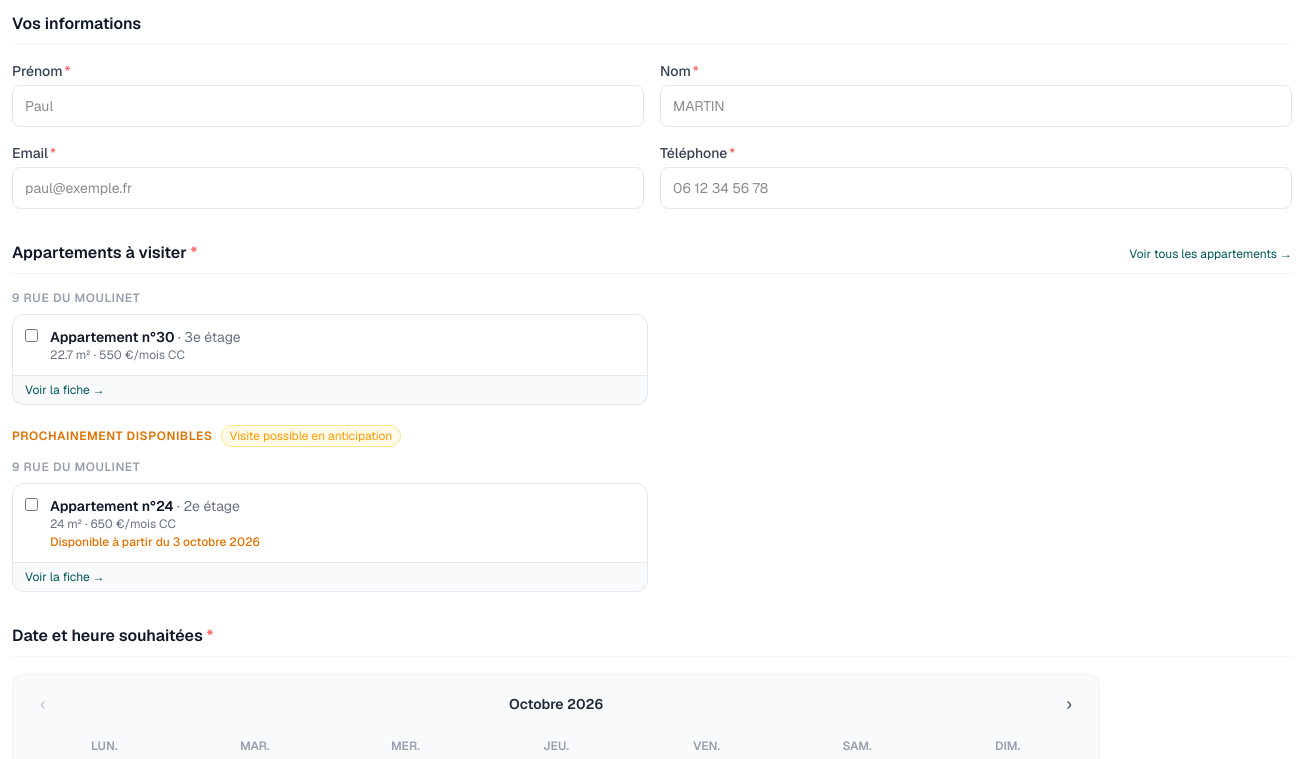
it: VisitorForm — validation email/téléphone › affiche une erreur pour un email invalide au blur
Type "pas-un-email" into the field with placeholder "paul@exemple.fr" at point(328, 188), box [12,167,644,209]
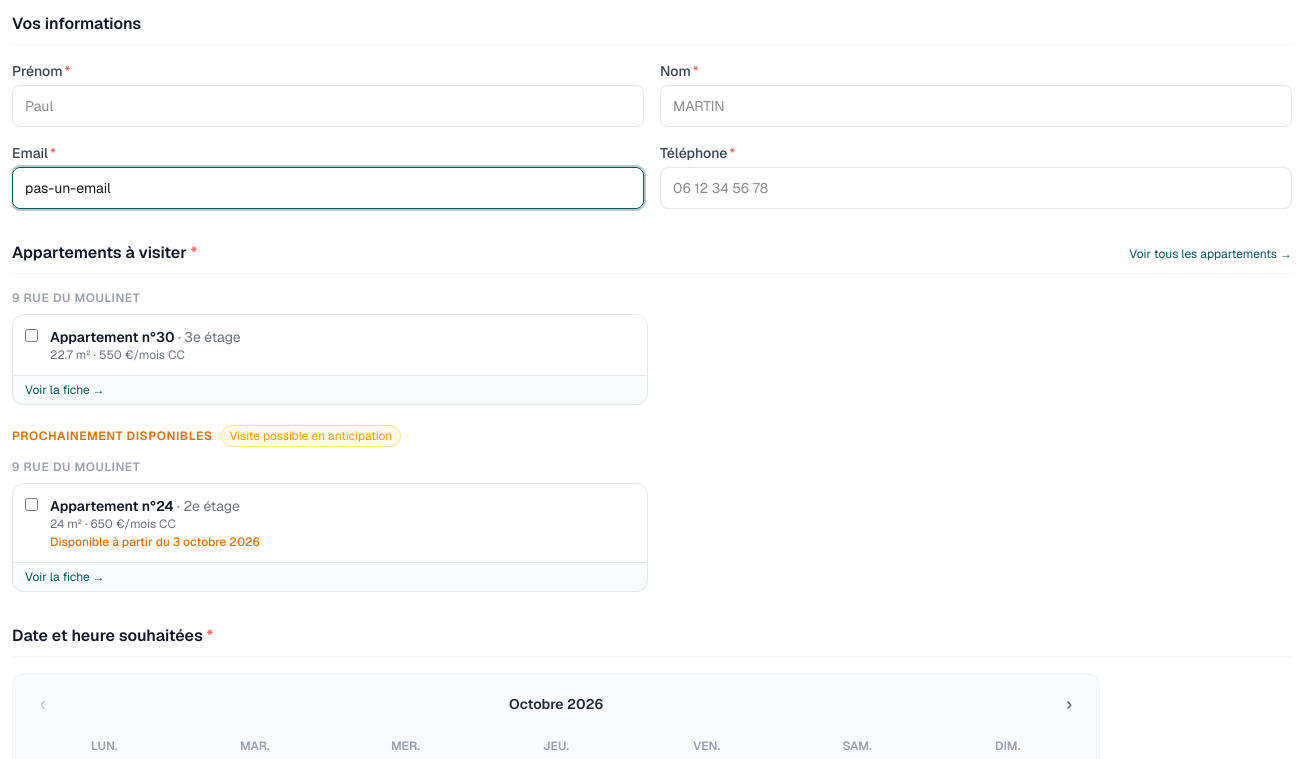
Press Tab
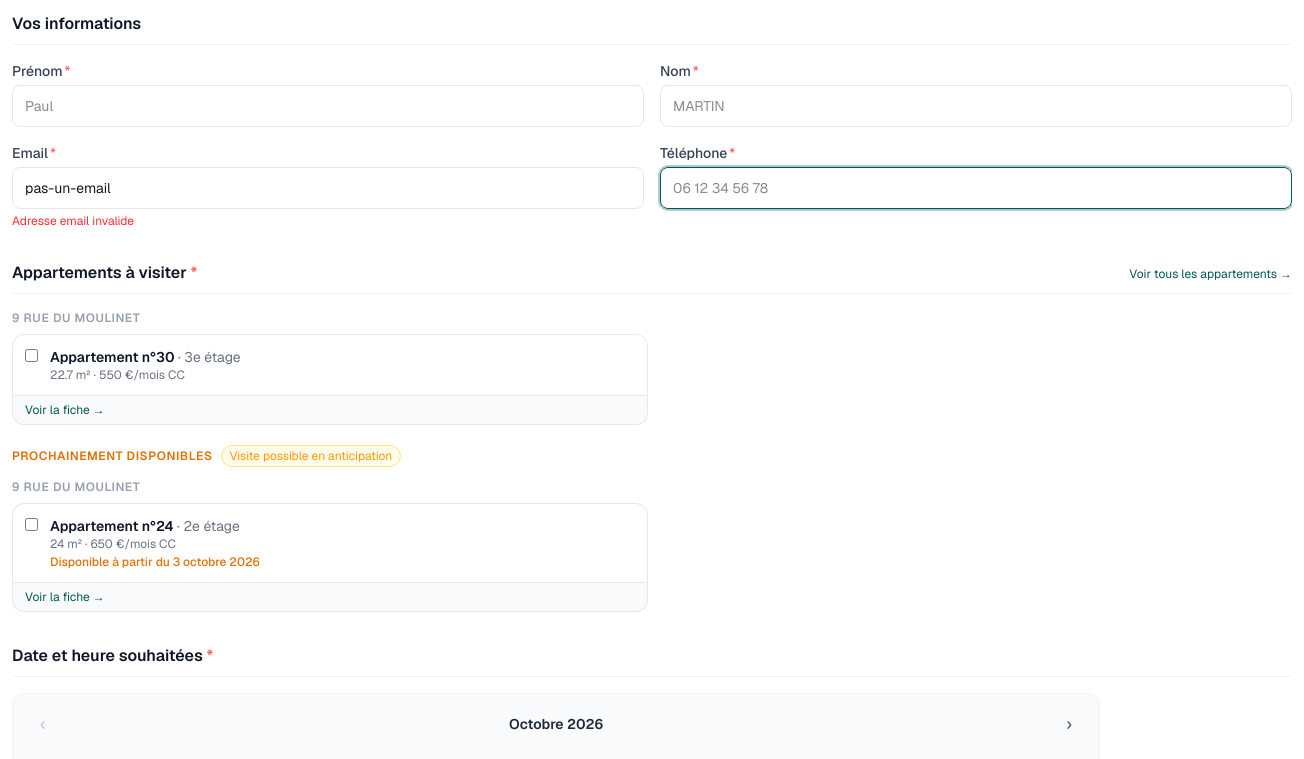
Now the text "Adresse email invalide" is shown, box [12,213,134,229]
